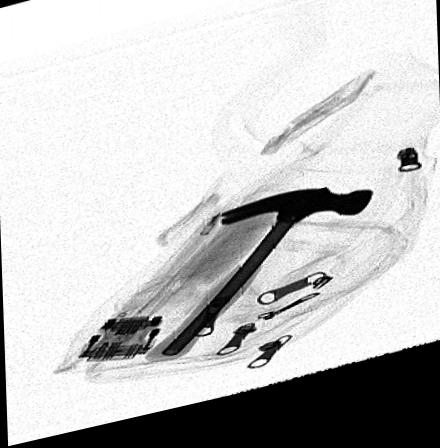Hammer: (143, 200, 375, 369)
